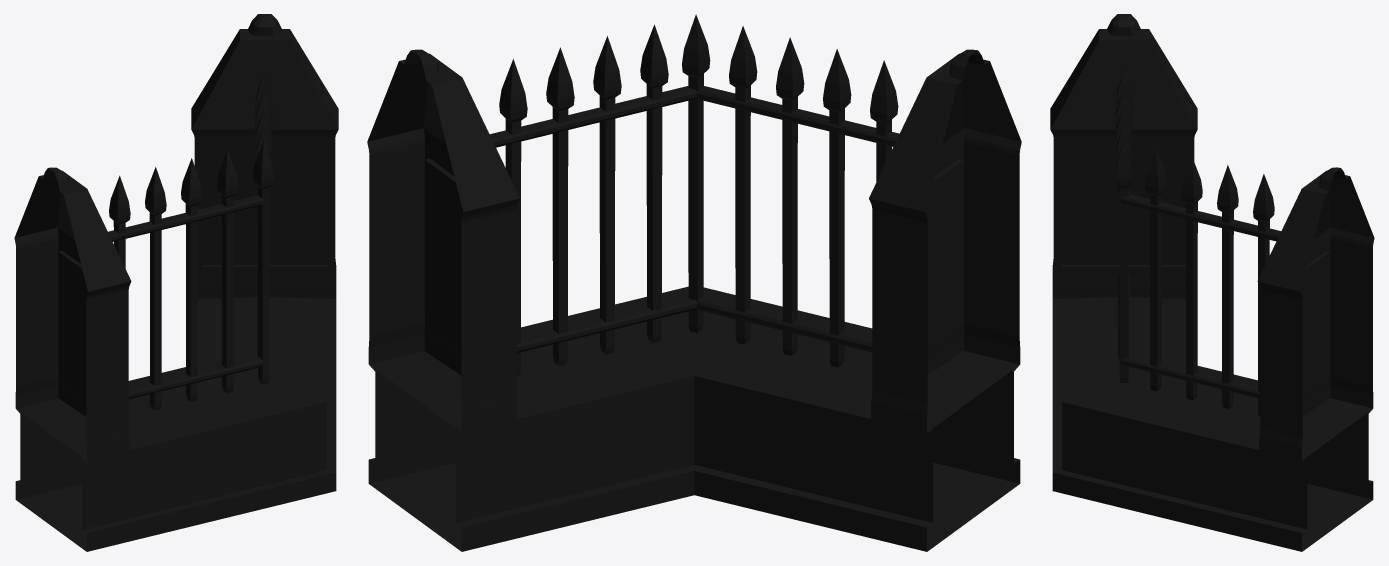
Rendered from graveyard_fence1.glb.
The picture shows the model from 3 angles, left to right: view 1: azimuth 30°, elevation 25°; view 2: azimuth 150°, elevation 25°; view 3: azimuth 270°, elevation 25°; orthographic projection. The views are drawn at different scales.
Visible parts, largest first — view 1: GraveyardFenceCorner.001; view 2: GraveyardFenceCorner.001; view 3: GraveyardFenceCorner.001.
Part boxes in pixels (left/top/right/bottom): GraveyardFenceCorner.001: left=14, top=14, right=338, bottom=551; GraveyardFenceCorner.001: left=367, top=14, right=1021, bottom=551; GraveyardFenceCorner.001: left=1050, top=14, right=1374, bottom=551.
Size of the model in its own units: 1.52 by 1.38 by 1.14.
Materials: 2 (2 with a texture image).
